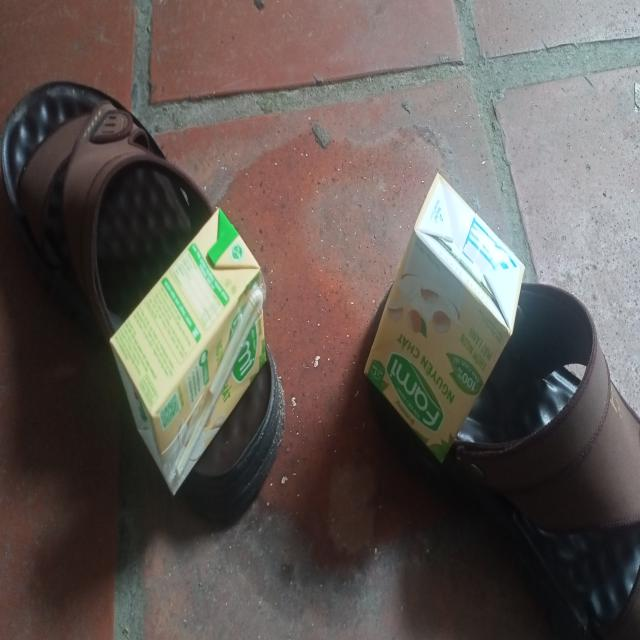Fami: (364, 170, 527, 467), (111, 207, 269, 499)
